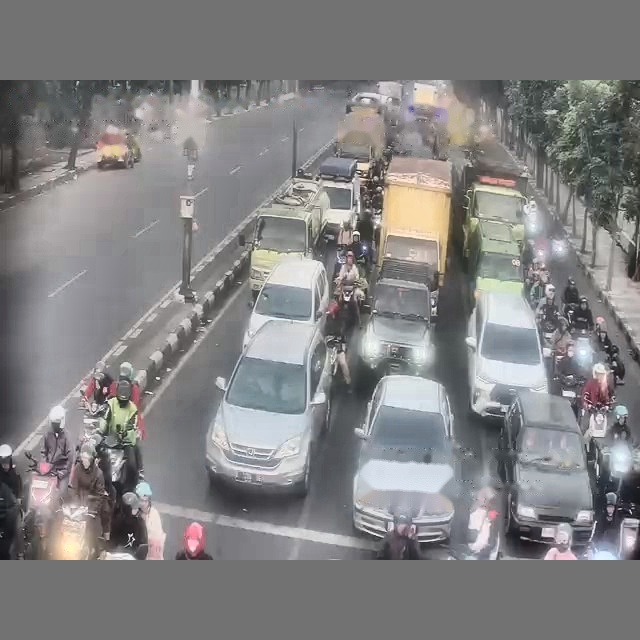Mobil: (206, 320, 330, 496), (352, 375, 460, 542), (497, 391, 594, 546), (466, 291, 548, 417), (357, 267, 434, 385), (243, 257, 330, 347), (96, 126, 134, 168)
Motor: (23, 452, 58, 559), (50, 501, 97, 559)
Truk: (377, 157, 451, 317), (249, 179, 329, 301), (461, 157, 527, 258)
